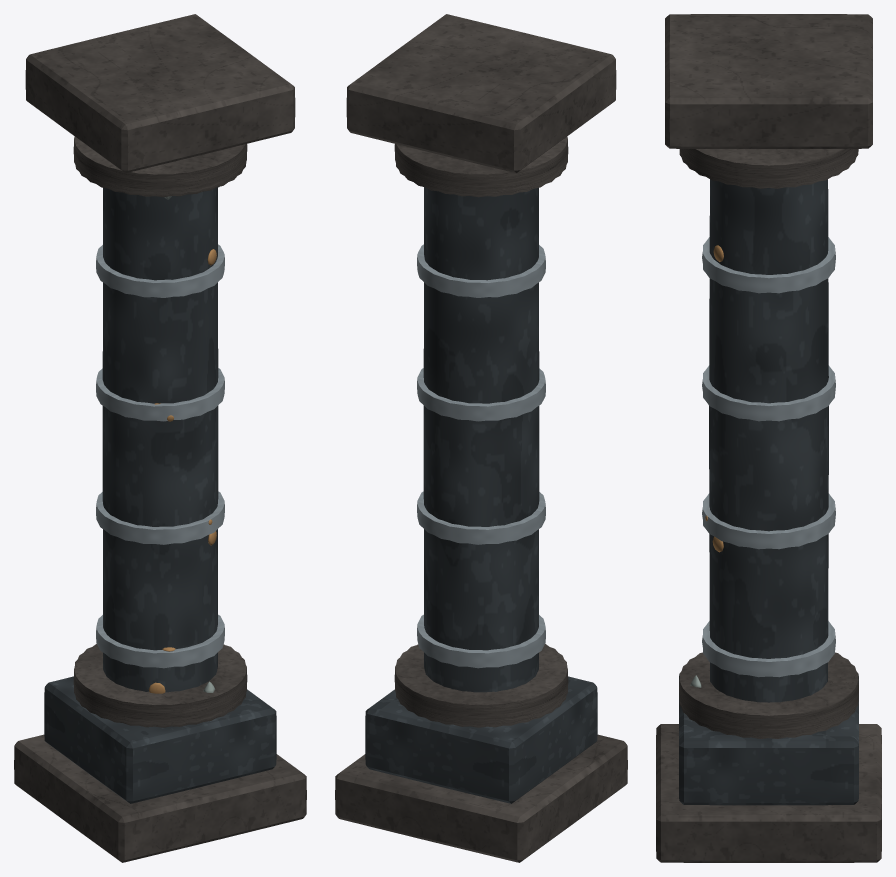
3 views of the same model, side by side, from view 1: azimuth 30°, elevation 25°; view 2: azimuth 150°, elevation 25°; view 3: azimuth 270°, elevation 25° (orthographic). The views are drawn at different scales.
Visible parts, largest first — view 1: gunmetal-cast-iron, foundry-slag-brick, machined-bearing-steel; view 2: gunmetal-cast-iron, foundry-slag-brick, machined-bearing-steel; view 3: gunmetal-cast-iron, foundry-slag-brick, machined-bearing-steel.
Part boxes in pixels (x1,y1,x2,y2): gunmetal-cast-iron: (44, 187, 276, 803); foundry-slag-brick: (14, 14, 306, 862); machined-bearing-steel: (96, 244, 224, 668); gunmetal-cast-iron: (365, 187, 597, 803); foundry-slag-brick: (335, 14, 627, 862); machined-bearing-steel: (417, 244, 545, 668); gunmetal-cast-iron: (679, 179, 858, 805); foundry-slag-brick: (656, 14, 881, 862); machined-bearing-steel: (702, 237, 835, 677).
Size of the model in its own units: 0.64 by 2.38 by 0.64.
5 materials, 3 textured.
